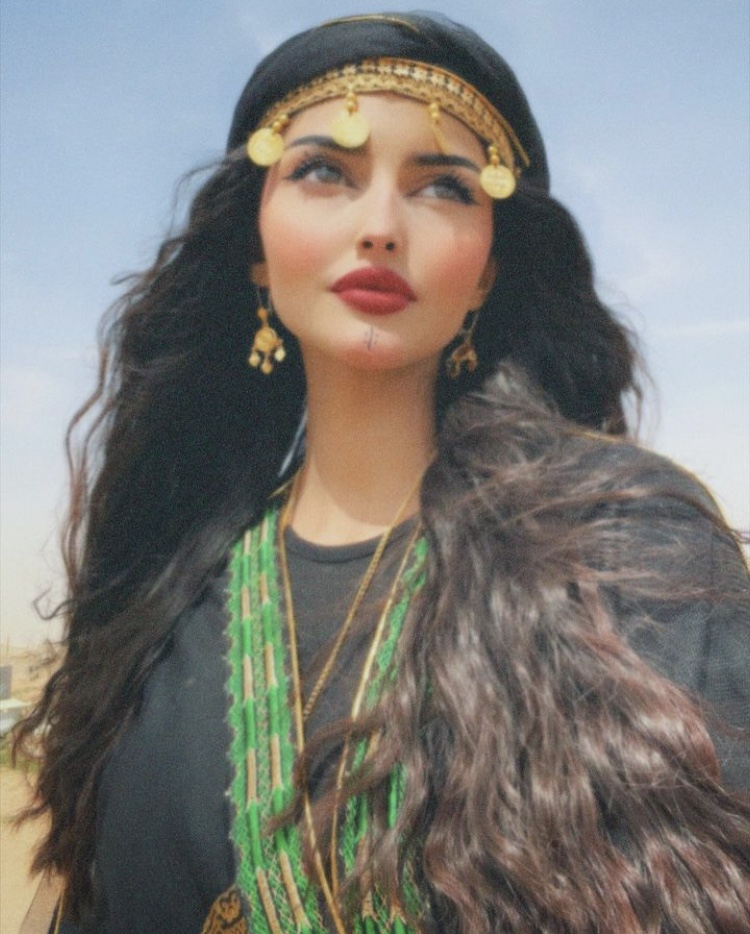Saudi_Founding_Day: (21, 7, 750, 934)
